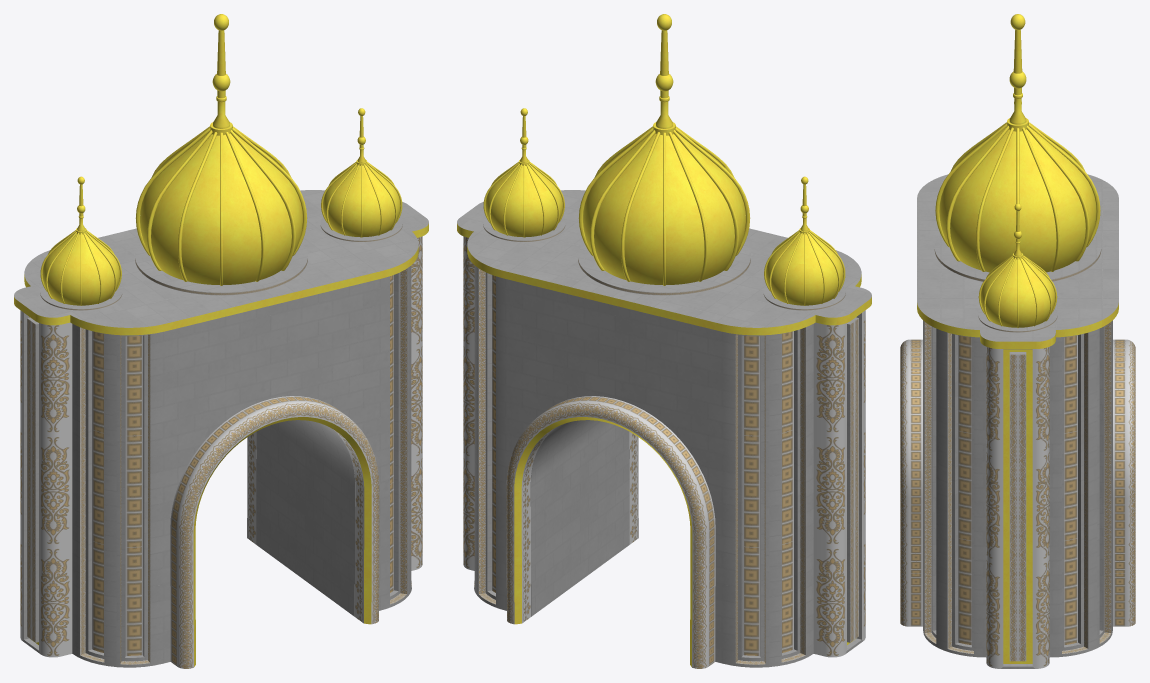
The model's file is SM_large_entrance_01.glb.
3 views of the same model, side by side, from view 1: azimuth 30°, elevation 25°; view 2: azimuth 150°, elevation 25°; view 3: azimuth 270°, elevation 25° (orthographic). The views are drawn at different scales.
Visible parts, largest first — view 1: SM_large_entrance_01; view 2: SM_large_entrance_01; view 3: SM_large_entrance_01.
Boxes of the visible parts, x1=… form: SM_large_entrance_01: x1=14, y1=14, x2=428, y2=668; SM_large_entrance_01: x1=457, y1=14, x2=871, y2=668; SM_large_entrance_01: x1=900, y1=14, x2=1135, y2=668.
Size of the model in its own units: 12.6 by 18.07 by 6.83.
Materials: 4 (4 with a texture image).
